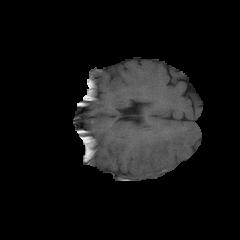glioma: (128, 127, 196, 174)
